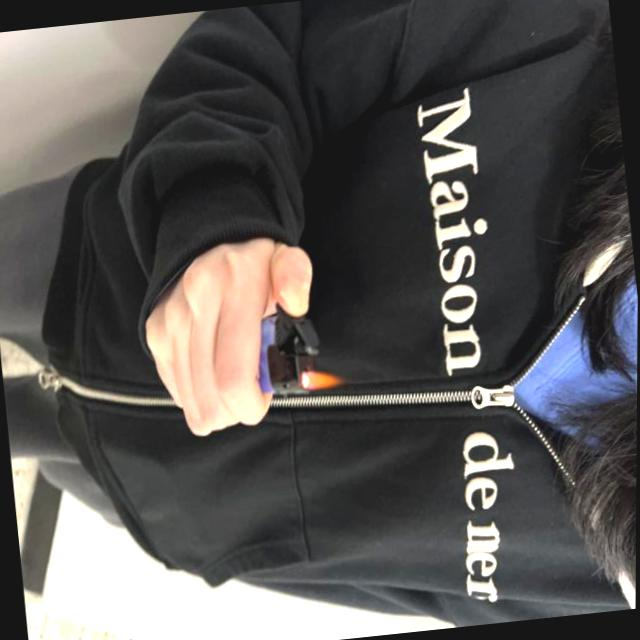Fire: (299, 364, 347, 392)
